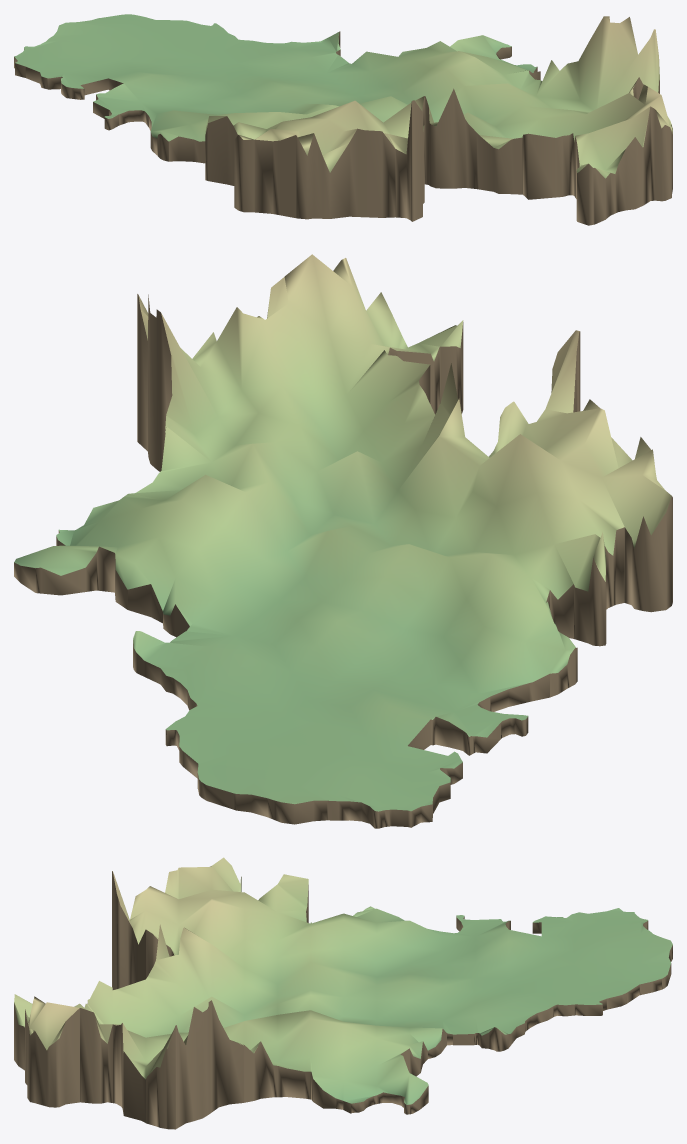
The model's file is SRB.glb.
3 views of the same model, one above another, from view 1: azimuth 30°, elevation 25°; view 2: azimuth 150°, elevation 25°; view 3: azimuth 270°, elevation 25° (orthographic). The views are drawn at different scales.
Visible parts, largest first — view 1: SRB; view 2: SRB; view 3: SRB.
Part boxes in pixels (x1=…): SRB: x1=14, y1=14, x2=672, y2=225; SRB: x1=14, y1=254, x2=672, y2=828; SRB: x1=14, y1=857, x2=672, y2=1129.
Bounding box in the file's own units: 1.23 × 0.338 × 1.64.
